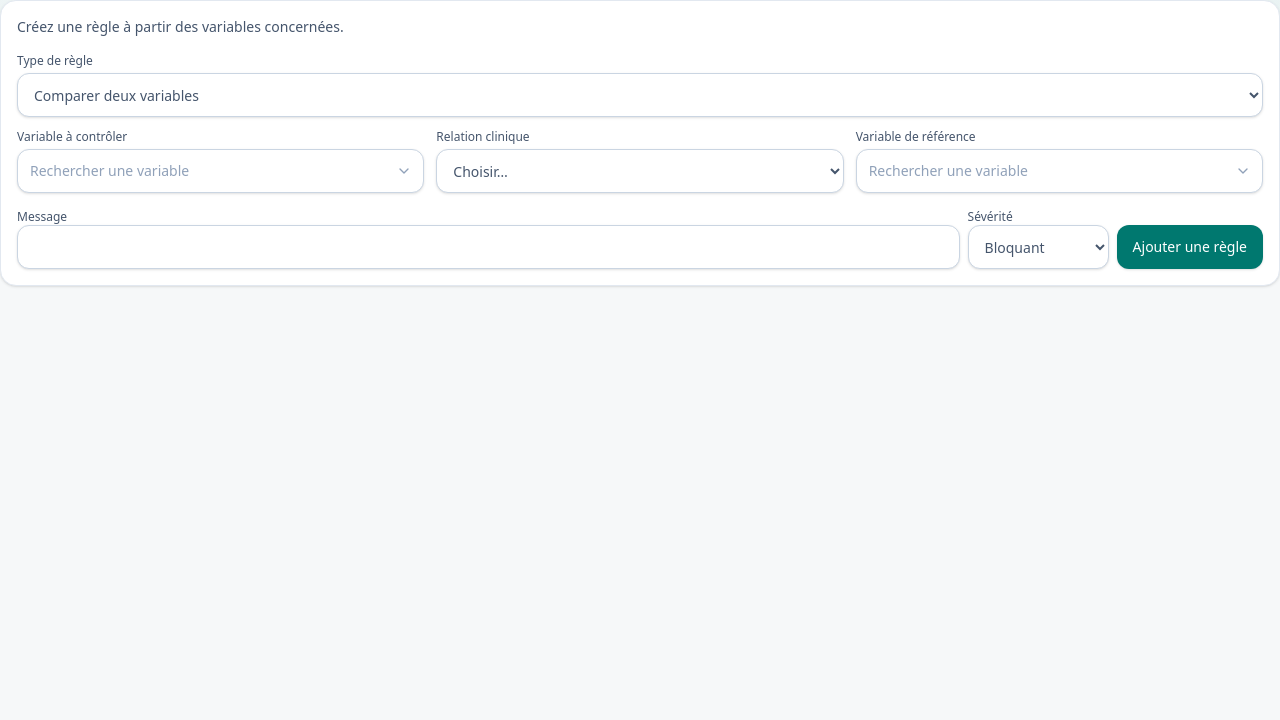
it: RuleForm › les selecteurs de variables deviennent recherchables sur un gros modele
Step 1. Click the dropdown named "Variable à contrôler" → (221, 171), box [17, 149, 424, 193]
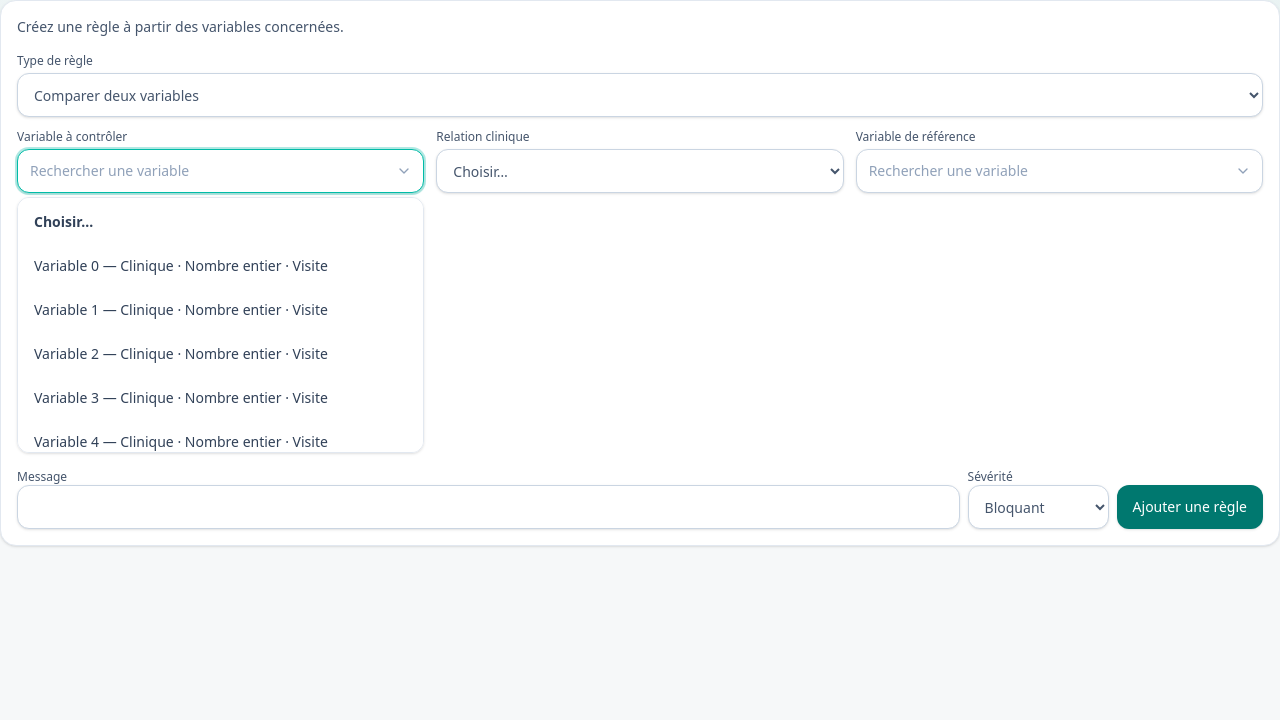
Step 2. Type "glasgow" into the dropdown named "Variable à contrôler" → (221, 171), box [17, 149, 424, 193]
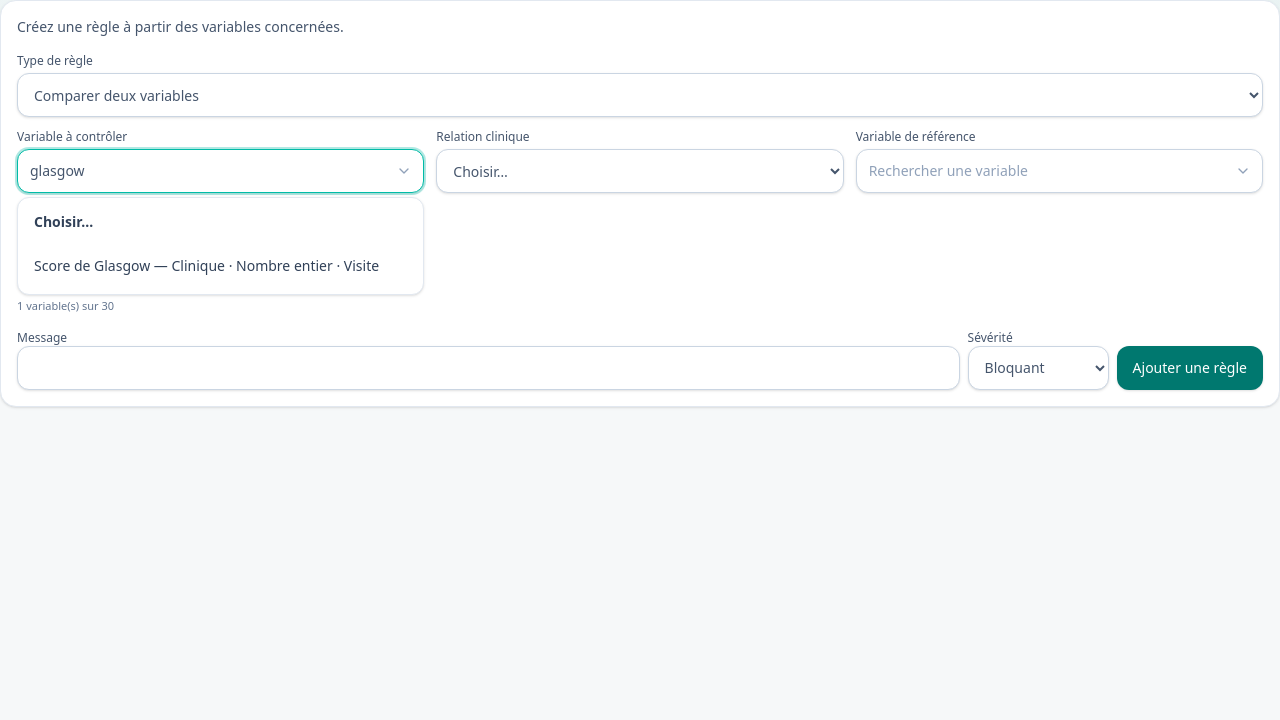
Now the number of options is 2
Step 3. Click the option "Score de Glasgow — Clinique · Nombre entier · Visite" → (207, 266), box [34, 256, 379, 275]
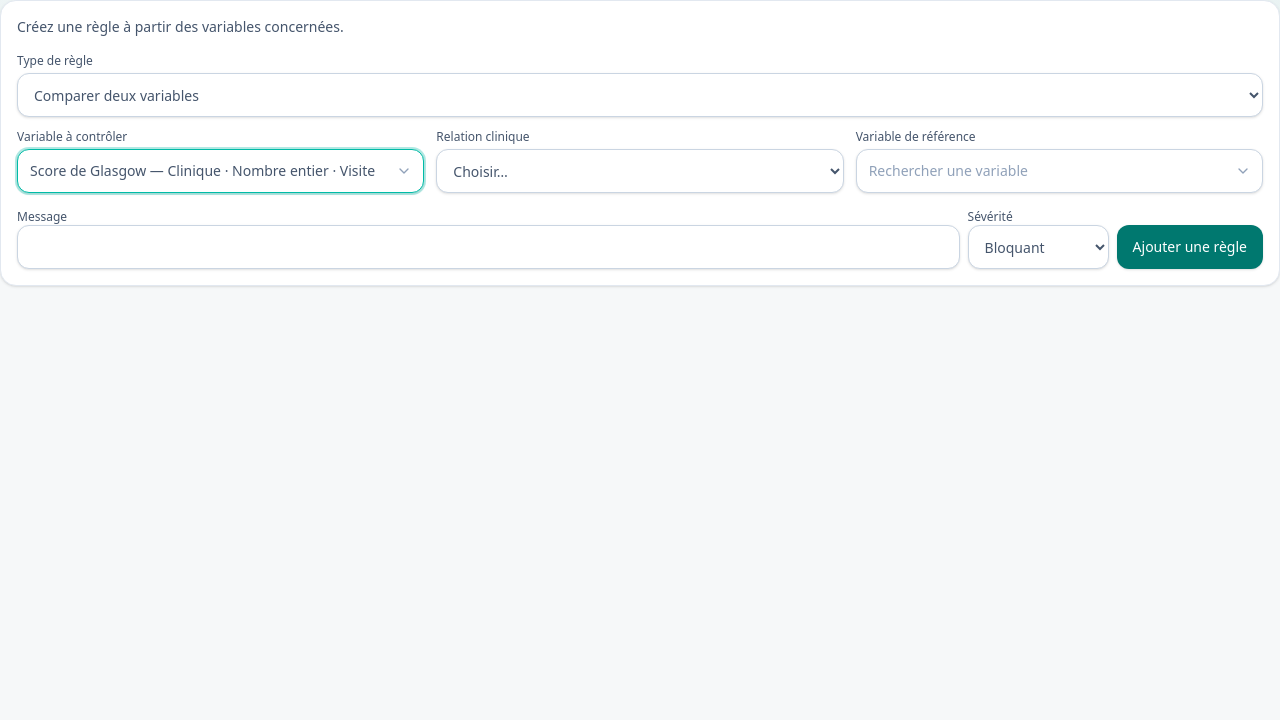
Now the list is gone
Step 4. Replace the text in the dropdown named "Variable à contrôler" with "Variable 3" → (221, 171), box [17, 149, 424, 193]
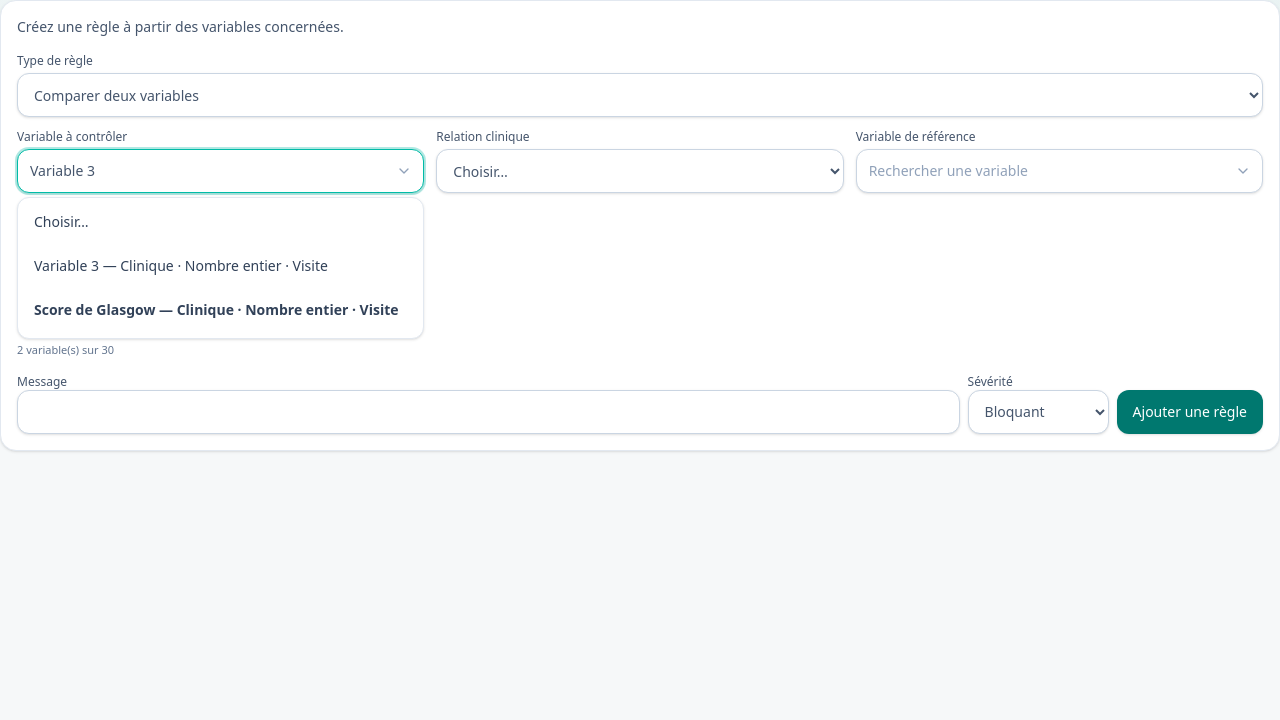
Now the option "Score de Glasgow — Clinique · Nombre entier · Visite" is selected, box [34, 300, 398, 319]
Note: Echap referme la liste sans toucher au choix.
Step 5. Press Escape
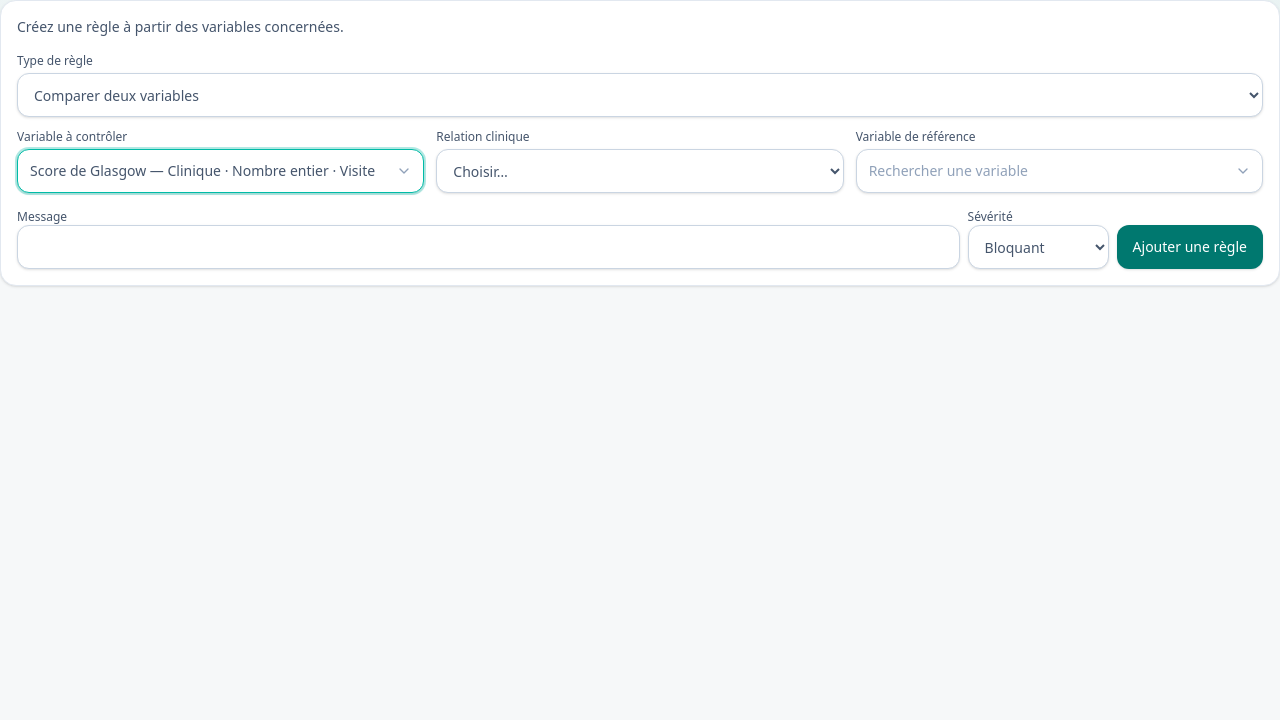
Now the list is gone
